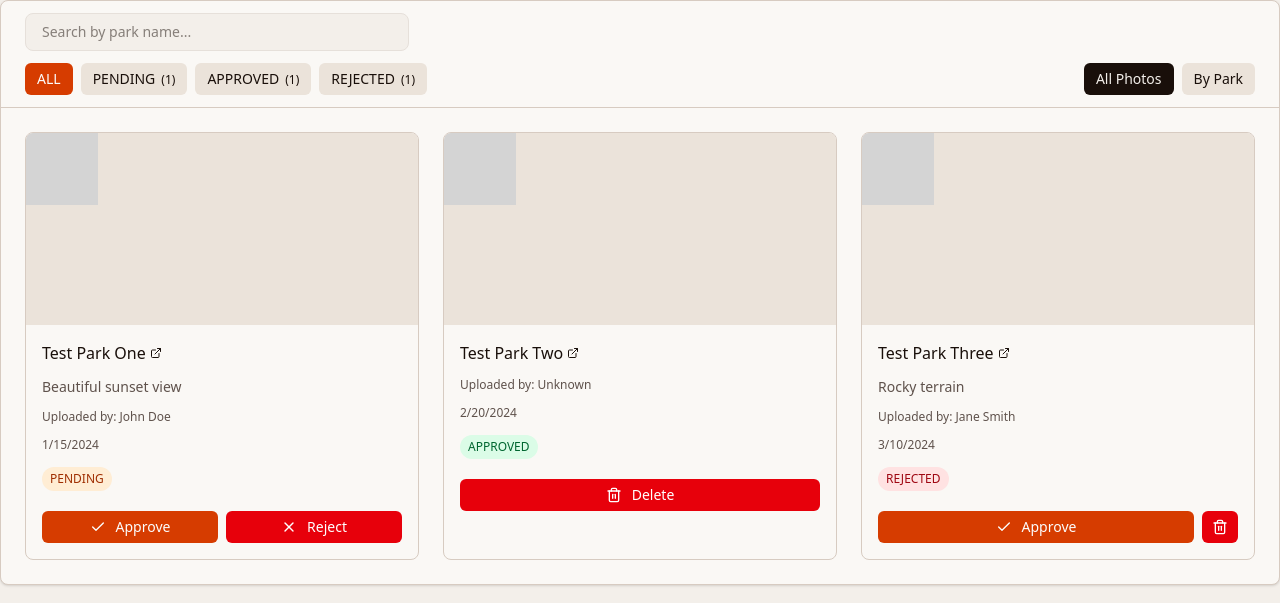
Test case: PhotoModerationTable › should disable buttons while processing
What coordinates should you click on to do the following:
click the button "Approve" below "1/15/2024"
I would click on:
 (130, 527)
Its box is [42,511,218,543].
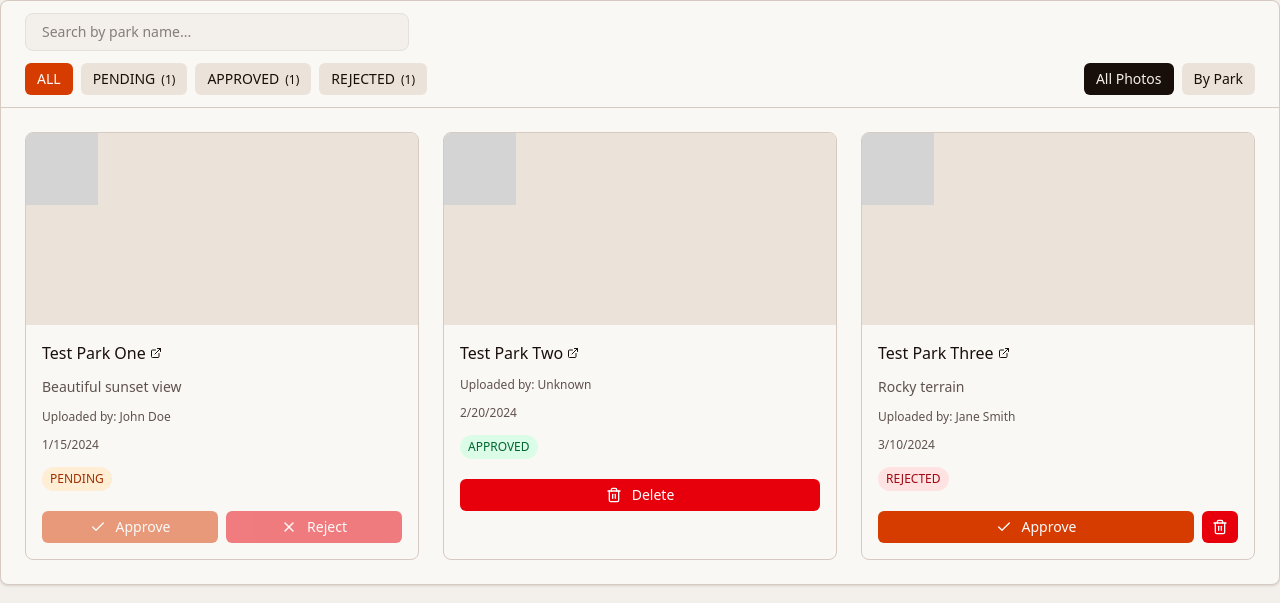
Expected: the button "Approve" below "1/15/2024" is disabled, [42,511,218,543]
Expected: the button "Reject" is disabled, [226,511,402,543]
